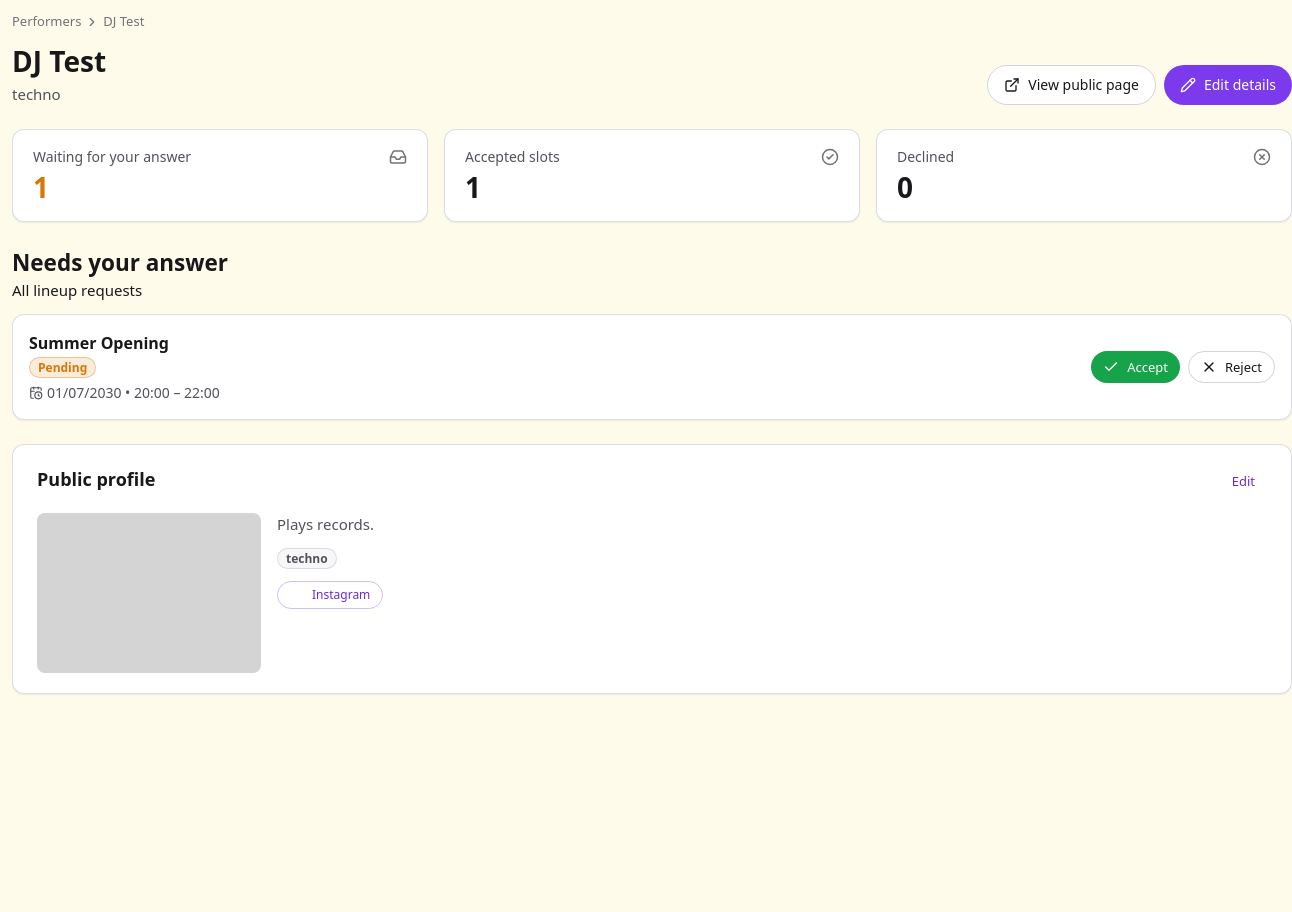
Test: PerformerOverviewPage › counts the invitations, answers a waiting one and shows the public profile
Expected: the heading "DJ Test" is shown, [12, 44, 106, 78]
Expected: the text "techno" below "Plays records." is shown, [286, 550, 328, 566]
Click the button with aria-label "Accept Summer Opening".
click(1136, 367)  # box [1091, 351, 1180, 383]
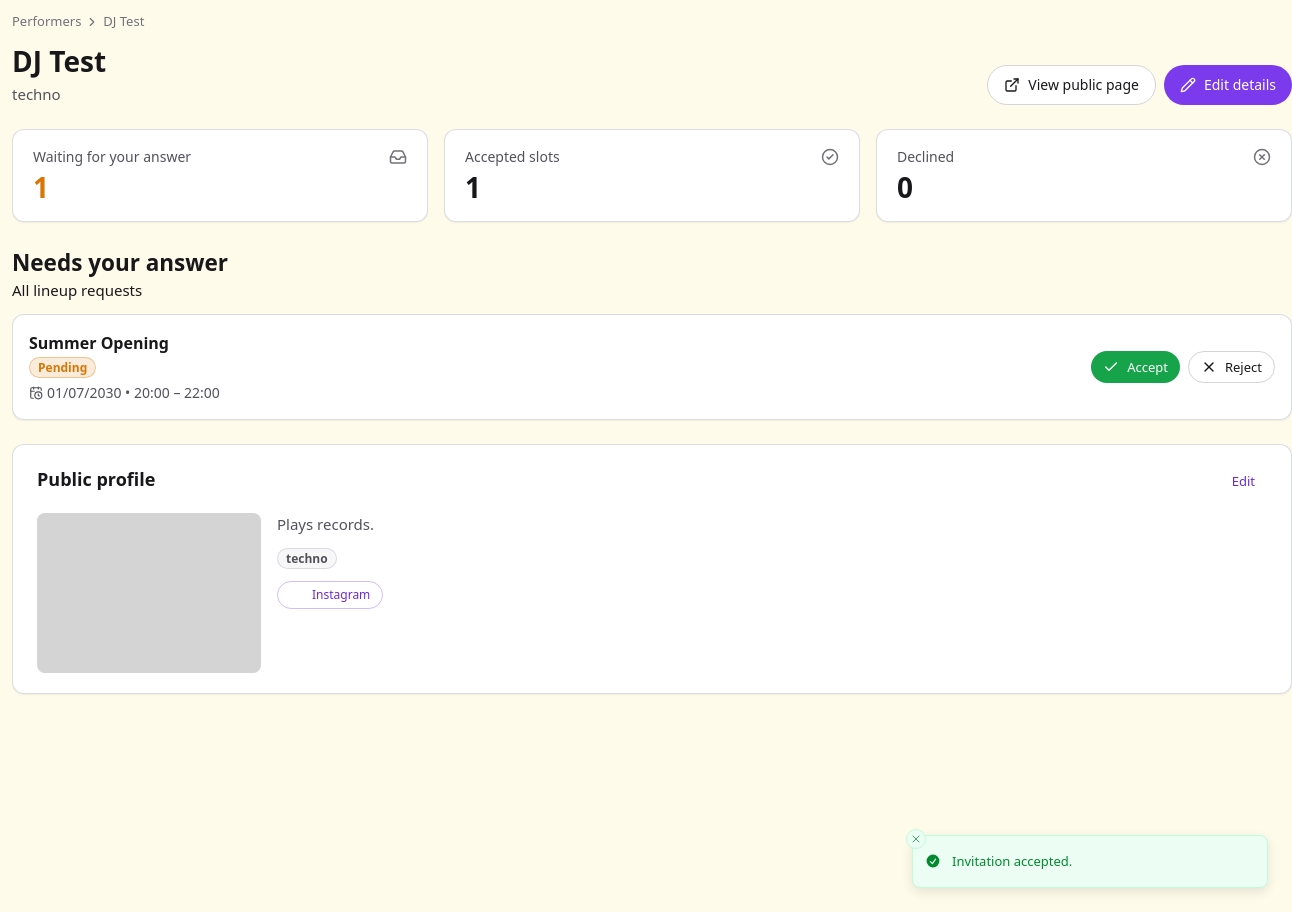
Now the text "Invitation accepted." is shown, box [952, 852, 1072, 871]
